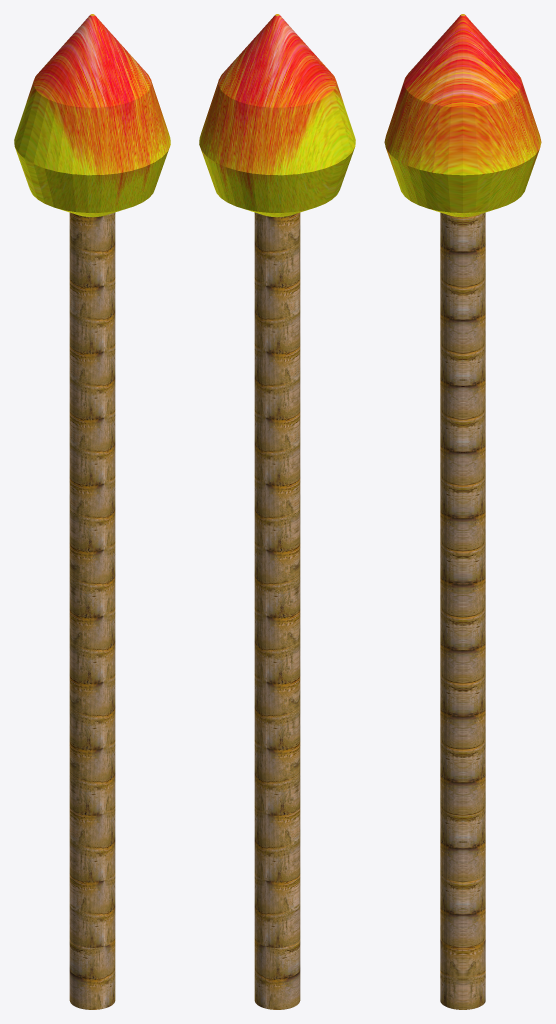
The model's file is torch.obj.
3 renders of one model, left to right at view 1: azimuth 30°, elevation 25°; view 2: azimuth 150°, elevation 25°; view 3: azimuth 270°, elevation 25°, orthographic.
Size of the model in its own units: 0.7968 by 5.52 by 0.7968.
1 material, 1 textured.
